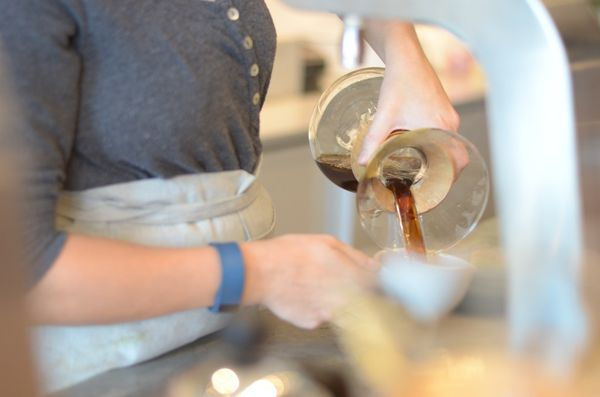salad: (378, 139, 430, 255)
sushi: (376, 248, 477, 325)
